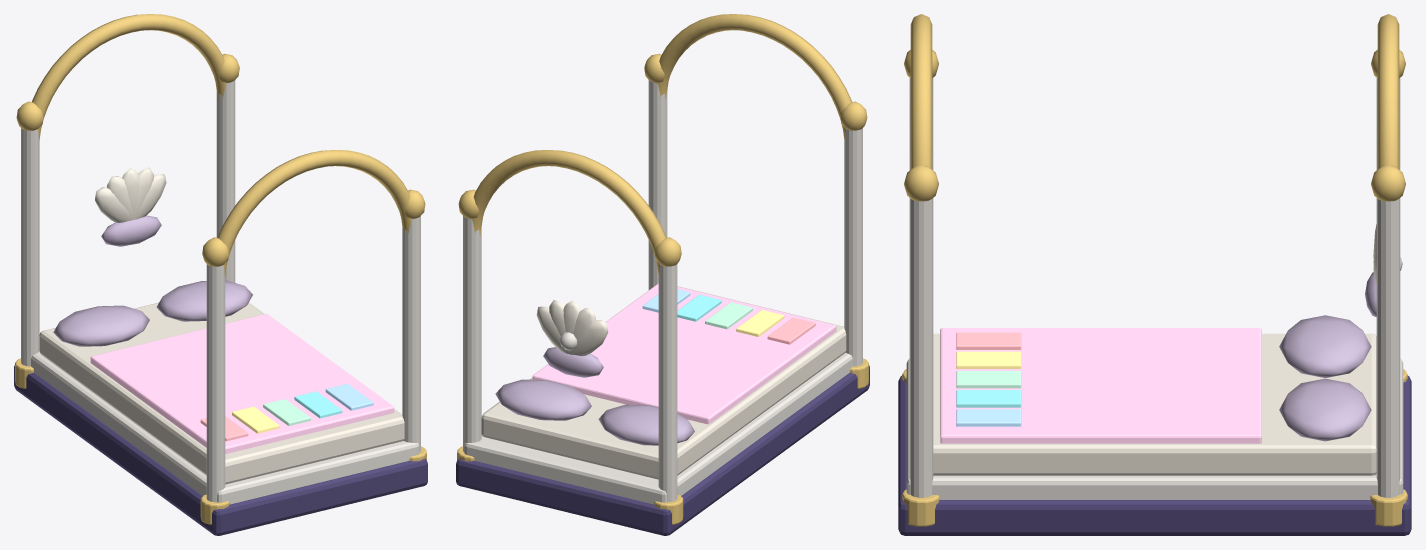
Rendered from pearl_canopy_bed.glb.
3 views of the same model, side by side, from view 1: azimuth 30°, elevation 25°; view 2: azimuth 150°, elevation 25°; view 3: azimuth 270°, elevation 25° (orthographic). The views are drawn at different scales.
Visible parts, largest first — view 1: pearl_canopy_bed.001; view 2: pearl_canopy_bed.001; view 3: pearl_canopy_bed.001.
Boxes of the visible parts, left/top/right/bottom form: pearl_canopy_bed.001: left=14, top=14, right=427, bottom=535; pearl_canopy_bed.001: left=456, top=14, right=869, bottom=535; pearl_canopy_bed.001: left=898, top=14, right=1411, bottom=535.
Bounding box in the file's own units: 7.66 × 11.66 × 12.2.
